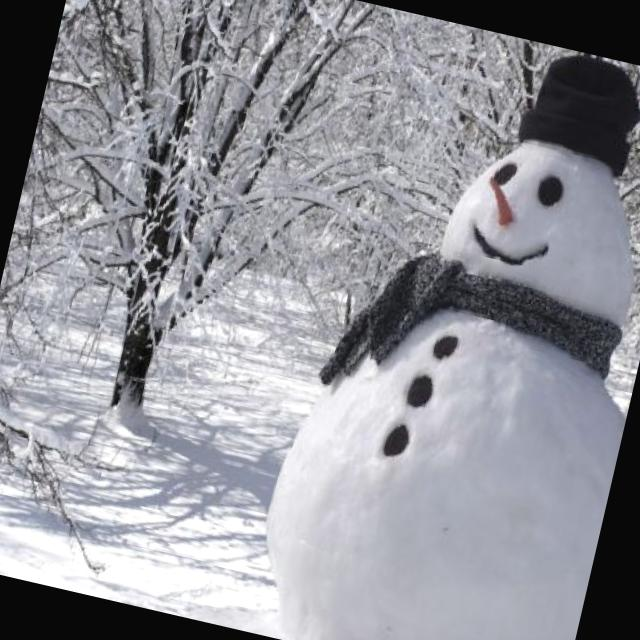Person: (237, 7, 640, 640)
